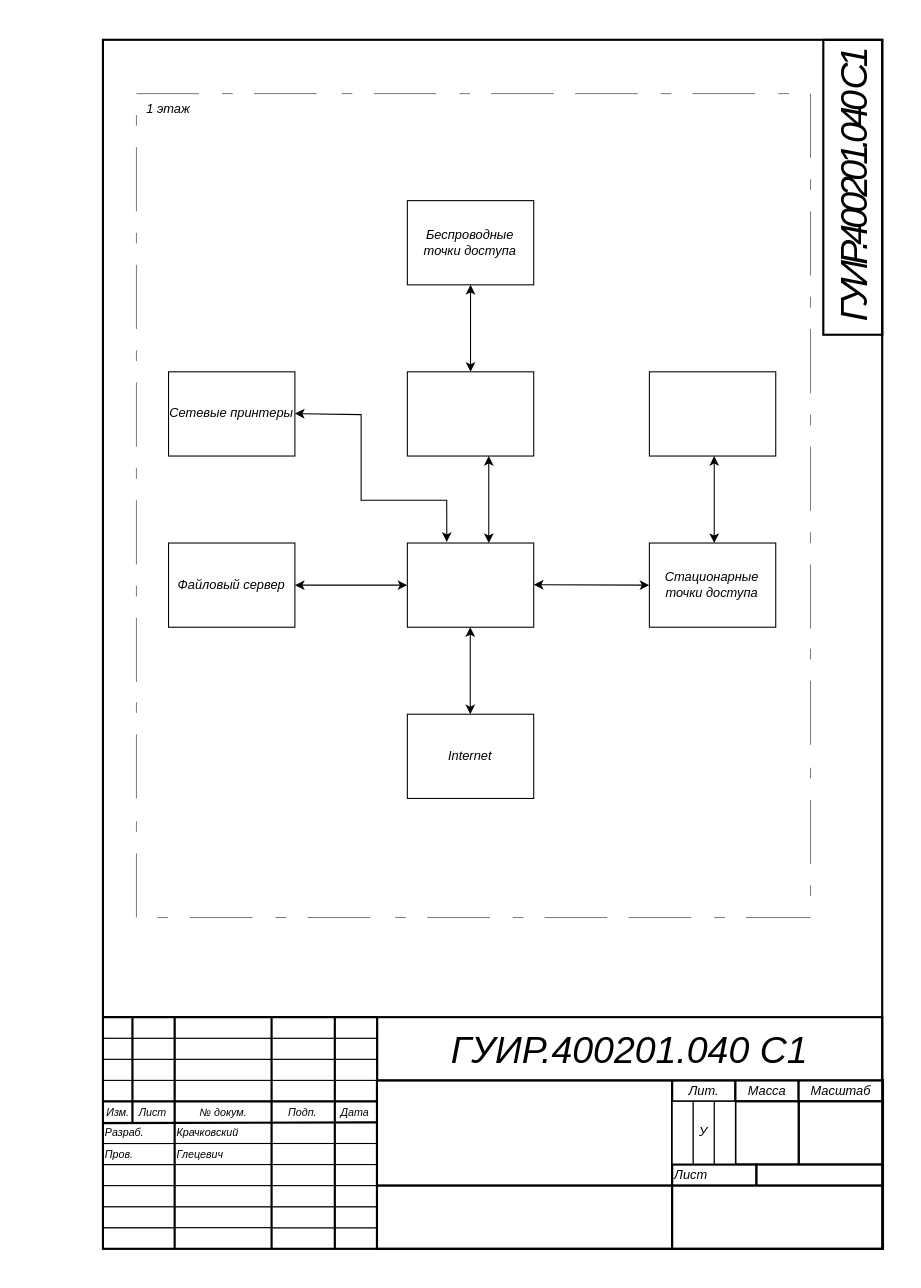
Image size: 921x1288. Some labels were removed from this diagram. The shapes that lost their labels are listed below. From the top down, each one's centre as x and y in pixels, then its label:
At [470,413]: "Беспроводной маршрутизатор".
At [712,413]: "Принтер".
At [470,584]: "Коммутатор третьего уровня".
At [524,1132]: "Локальная компьютерная сеть. Схема структурная".
At [819,1174]: "Листов 1".
At [777,1216]: "ЭВМ, гр. 050502".
